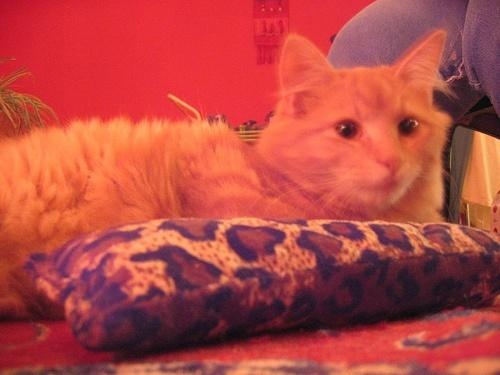cat: (2, 34, 460, 319)
